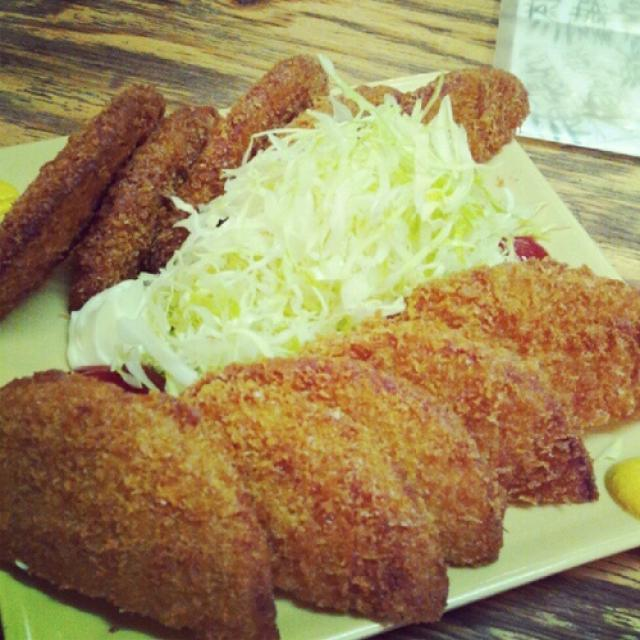炸货点心: (4, 18, 635, 634)
